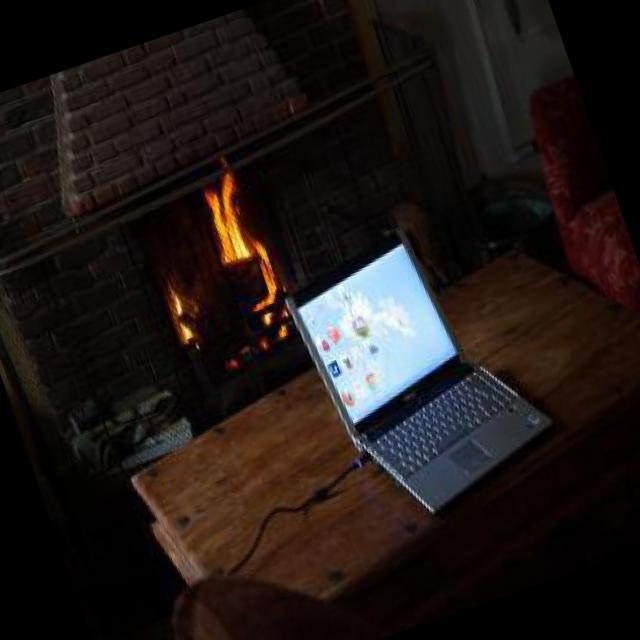fire: (187, 165, 292, 311), (151, 263, 207, 354)
